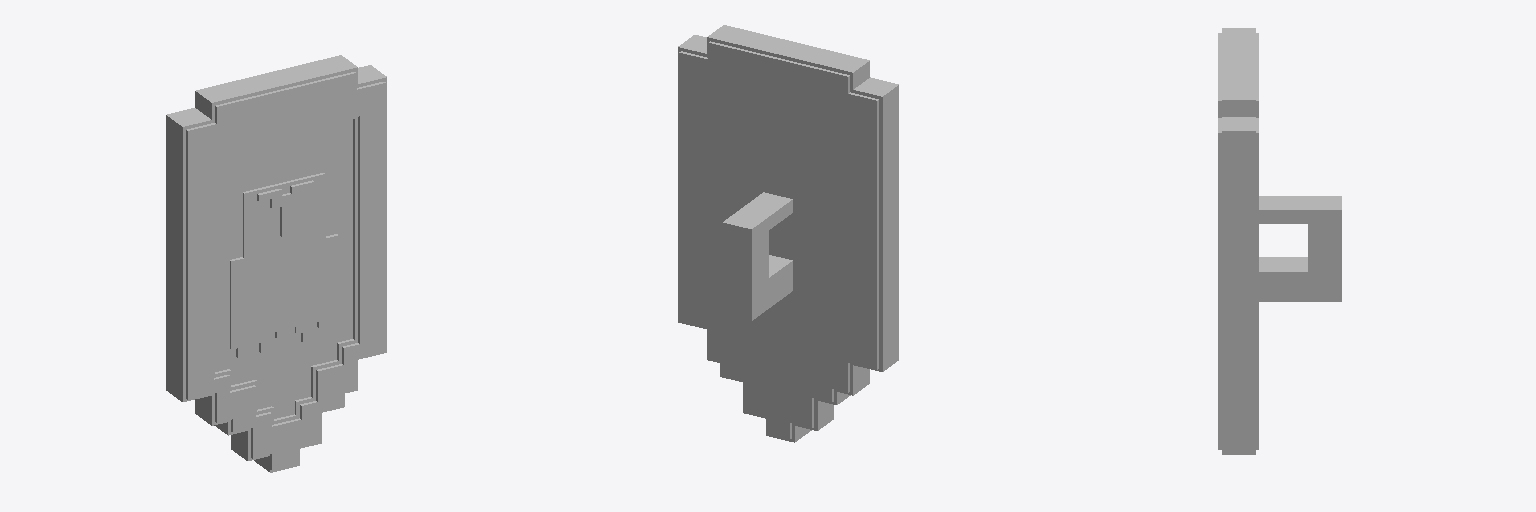
File: Shield02.obj
3 renders of one model, left to right at view 1: azimuth 30°, elevation 25°; view 2: azimuth 150°, elevation 25°; view 3: azimuth 270°, elevation 25°, orthographic.
Parts seen in each view (by area): view 1: object 1; view 2: object 1; view 3: object 1.
Part boxes in pixels (x1,y1,x2,y2): object 1: (166,55,386,472); object 1: (678,25,898,442); object 1: (1218,28,1341,454).
Size of the model in its own units: 6.3 by 11.3 by 3.3.